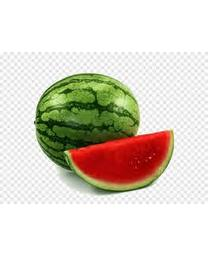watermelon: (34, 73, 141, 167), (63, 129, 175, 192)
